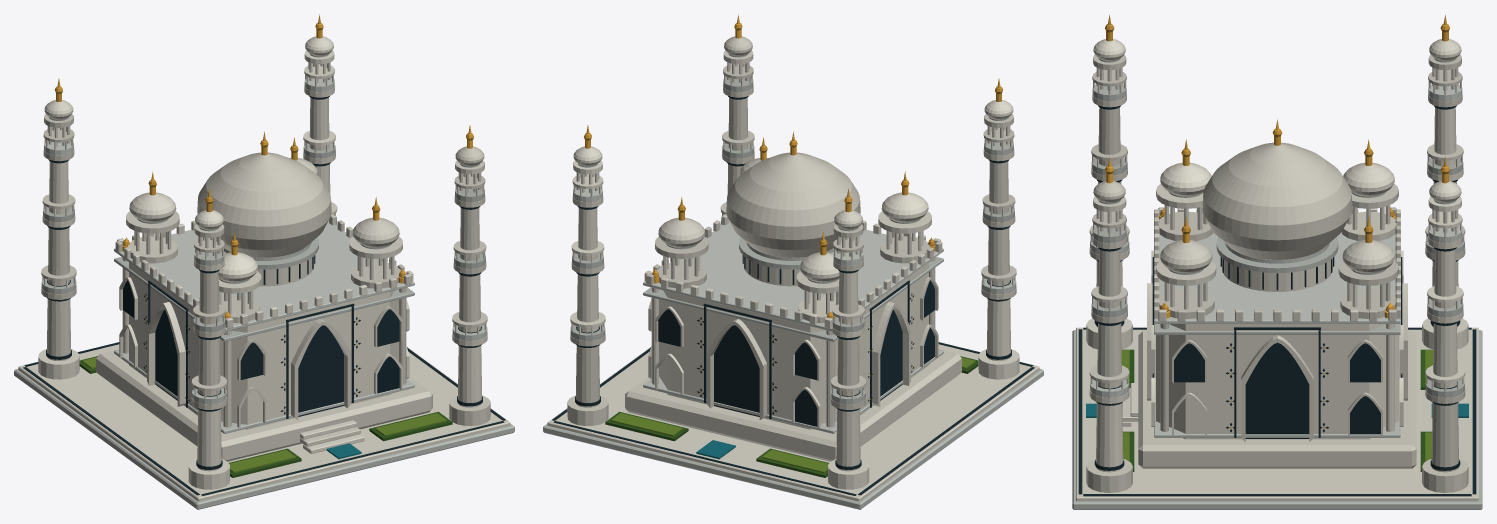
Rendered from fort.glb.
3 renders of one model, left to right at view 1: azimuth 30°, elevation 25°; view 2: azimuth 150°, elevation 25°; view 3: azimuth 270°, elevation 25°, orthographic. The views are drawn at different scales.
Visible parts, largest first — view 1: fort_structure, fort_brass; view 2: fort_structure, fort_brass; view 3: fort_structure, fort_brass.
Part boxes in pixels (x1,y1,x2,y2): fort_structure: (14, 23, 514, 509); fort_brass: (56, 14, 472, 410); fort_structure: (543, 23, 1043, 509); fort_brass: (585, 14, 1001, 410); fort_structure: (1072, 24, 1482, 509); fort_brass: (1106, 15, 1448, 428).
Size of the model in its own units: 7.6 by 6.93 by 7.6.
